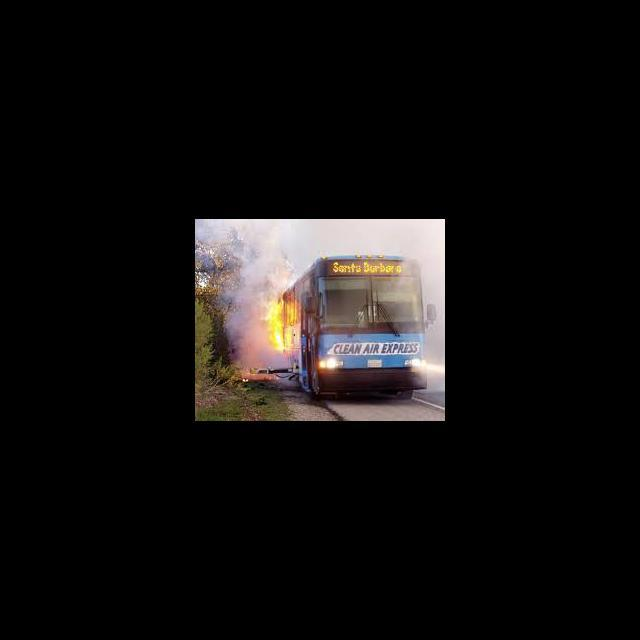Fire: (266, 301, 298, 351)
Smoke: (196, 220, 444, 250), (226, 256, 265, 364), (421, 252, 444, 302), (427, 334, 444, 394), (266, 248, 291, 288)
